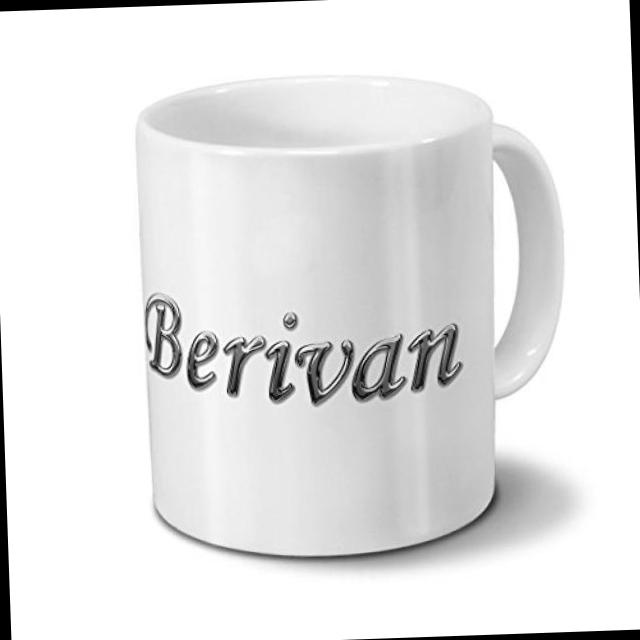Coffee Mug: (131, 64, 577, 568)
